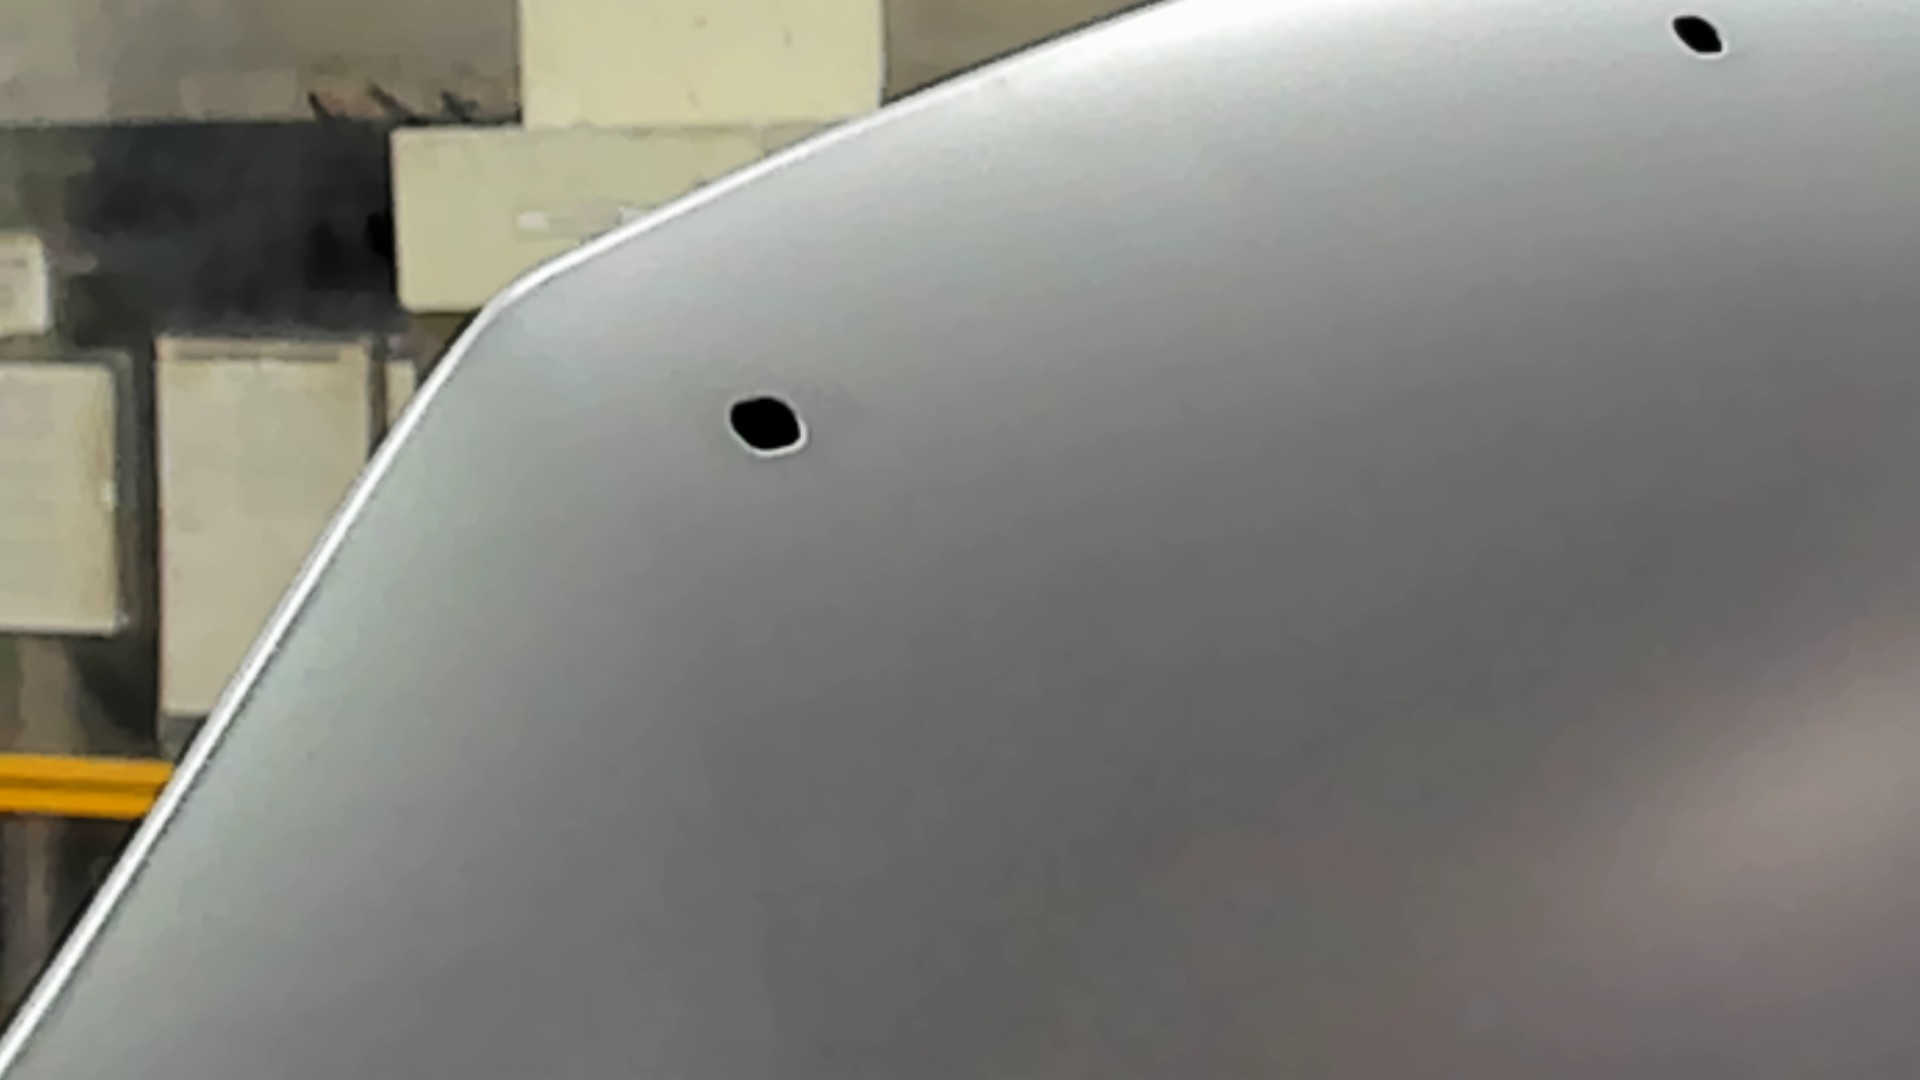amorfo: (724, 392, 808, 463), (1658, 11, 1738, 65)
capo: (926, 169, 1920, 1080)
